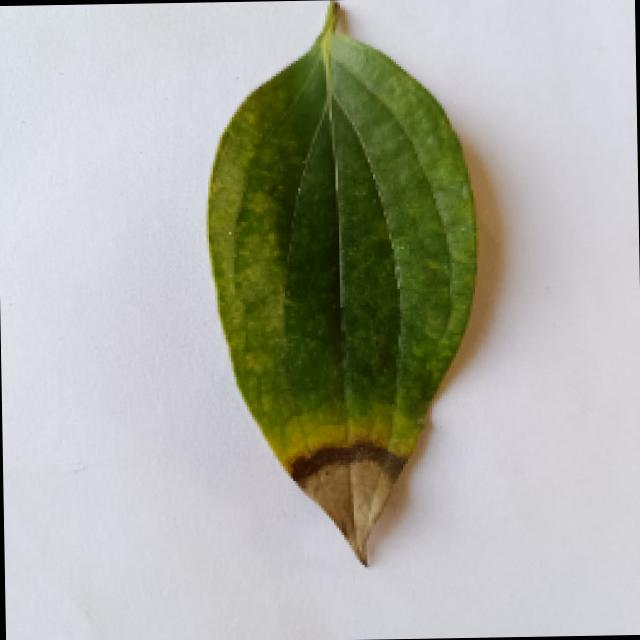footrot: (200, 5, 490, 572)
